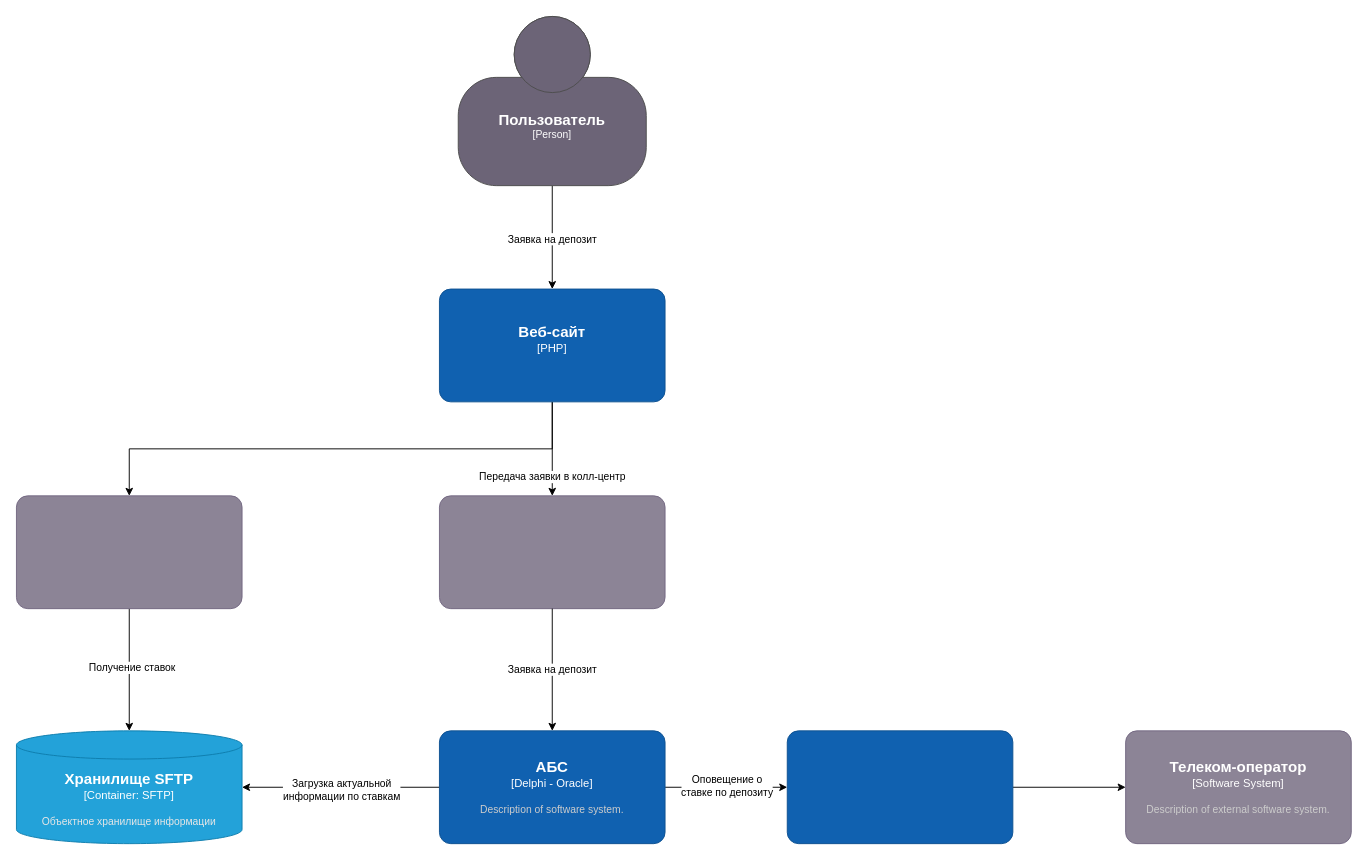
Image size: 1368x860. Some labels were removed from this diagram. The shapes that lost their labels are listed below. From the top down, each one's centre as x and y in pixels, then its label:
point (129, 552): Партнерский Колл-центр [-]
point (552, 552): Колл-центр [React-Java]
point (899, 787): СМС-шлюз [Software System] Description of software system.
